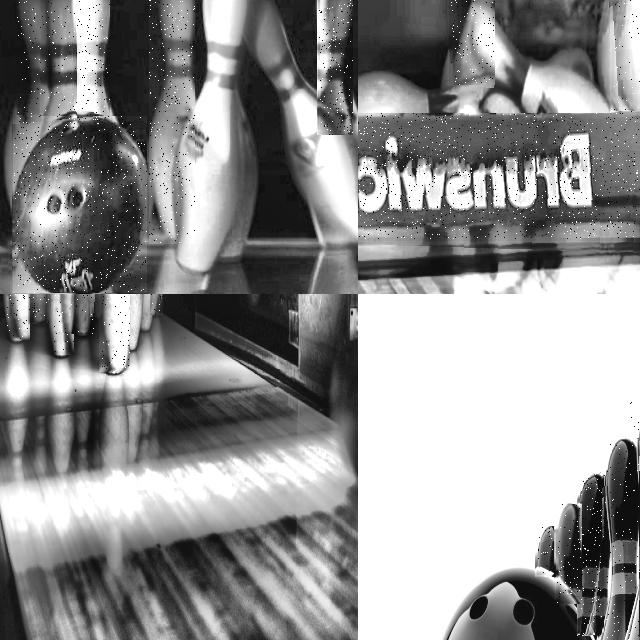bowling-ball: (14, 116, 146, 293)
bowling-pins: (149, 0, 195, 243), (600, 439, 639, 640), (17, 0, 47, 204), (72, 0, 110, 120), (319, 0, 352, 135), (41, 0, 74, 125), (579, 475, 601, 635), (451, 0, 489, 85), (557, 504, 580, 604), (101, 294, 129, 370), (56, 294, 74, 353), (7, 294, 30, 340), (127, 294, 143, 349), (74, 294, 94, 334), (537, 527, 554, 574)
sweep board: (358, 117, 640, 234)
